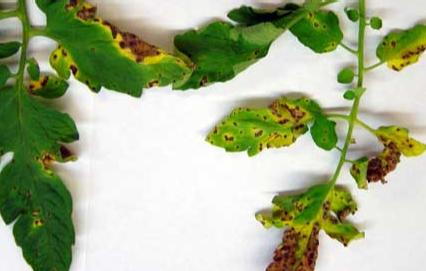Tomato Septoria leaf spot: (42, 0, 193, 112), (248, 189, 363, 271), (200, 96, 321, 165), (281, 0, 341, 59), (375, 8, 426, 74), (374, 121, 426, 164)
